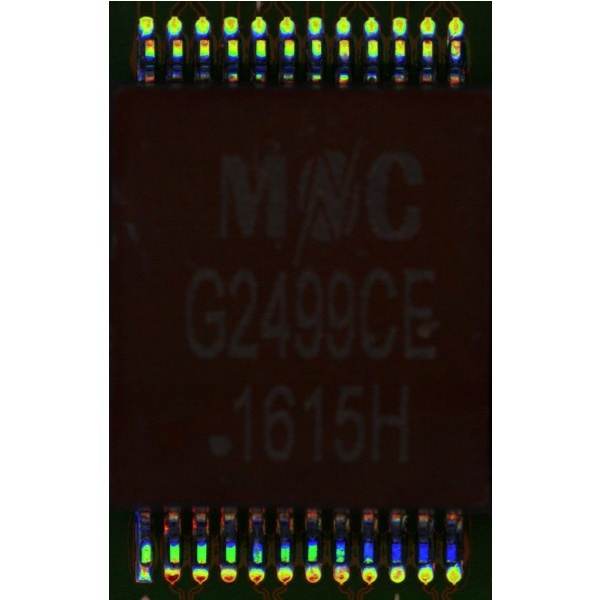Bad_podu: (140, 557, 150, 571)
